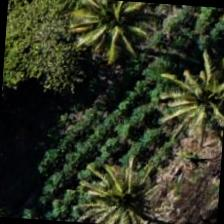Kelapa_Sawit: (79, 154, 175, 223), (47, 0, 142, 62), (168, 50, 223, 145)
